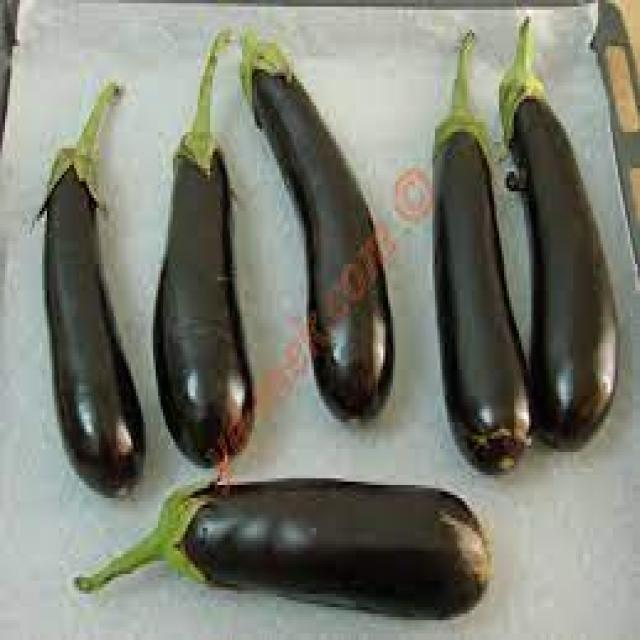eggplant: (237, 29, 388, 416), (158, 472, 489, 617), (497, 73, 618, 442), (427, 99, 529, 468), (39, 132, 141, 498), (150, 112, 254, 462)
